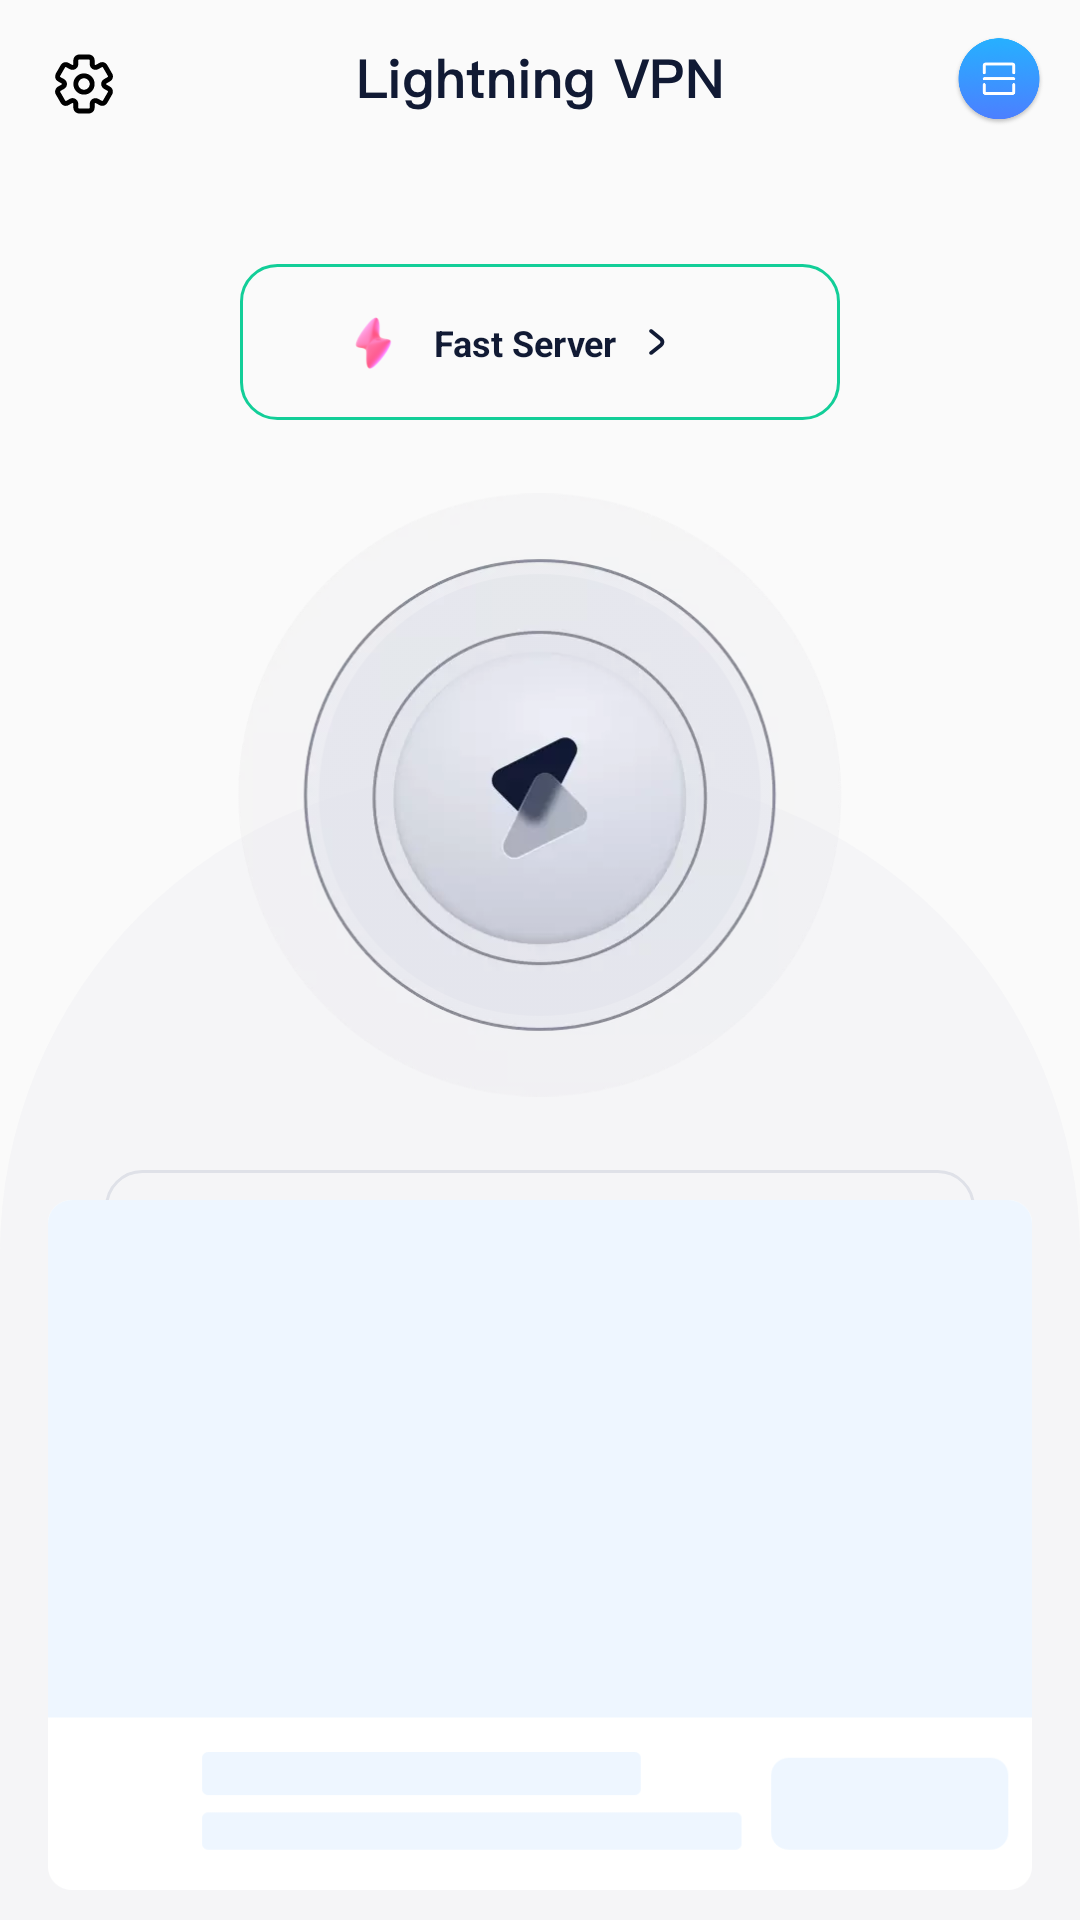

Screen size 1080px×1920px. Icon name, then its center in pixels as (x,y):
home scan: (999,80)
serv fast: (373,343)
settings: (84,84)
